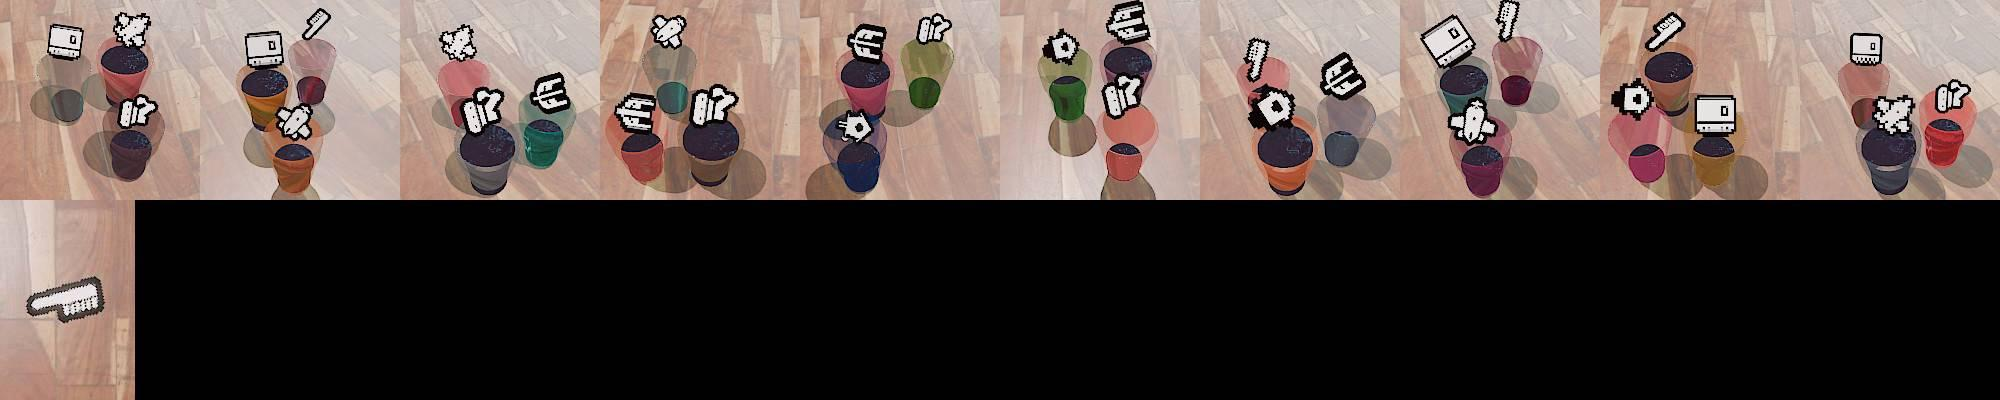icon: (24, 274, 108, 322), (1420, 14, 1477, 71), (1247, 83, 1300, 131), (1446, 96, 1496, 145), (459, 85, 506, 135), (1319, 51, 1366, 101), (689, 83, 739, 126), (1101, 73, 1145, 118), (1105, 0, 1149, 43), (1611, 78, 1654, 121), (529, 70, 571, 113), (1694, 94, 1739, 135), (614, 92, 657, 132), (1872, 94, 1915, 135), (1644, 11, 1686, 52), (848, 23, 888, 64), (244, 31, 286, 69), (274, 103, 315, 141), (117, 92, 159, 129), (1041, 28, 1083, 65), (439, 23, 477, 62), (112, 10, 152, 48), (47, 23, 84, 61), (651, 13, 687, 50), (835, 110, 875, 143), (1936, 78, 1972, 112), (1244, 37, 1270, 83), (916, 13, 953, 46), (1849, 32, 1883, 68), (301, 6, 332, 42), (1495, 0, 1520, 42)
